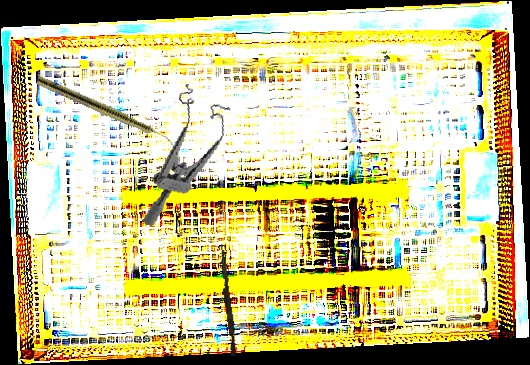Handpiece: (35, 75, 177, 147)
Pusher: (215, 243, 240, 357)
Speculum: (141, 80, 235, 238)
